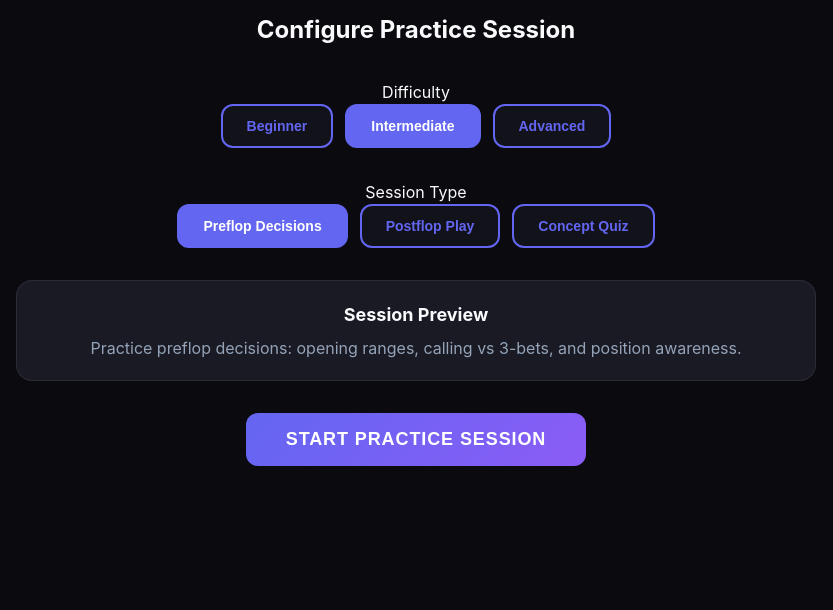
Scenario: PracticeSession › Active Session — Preflop Scenario › should enable submit after action selection
Click the button "Start Practice Session".
click(416, 440)  # box [246,413,586,466]
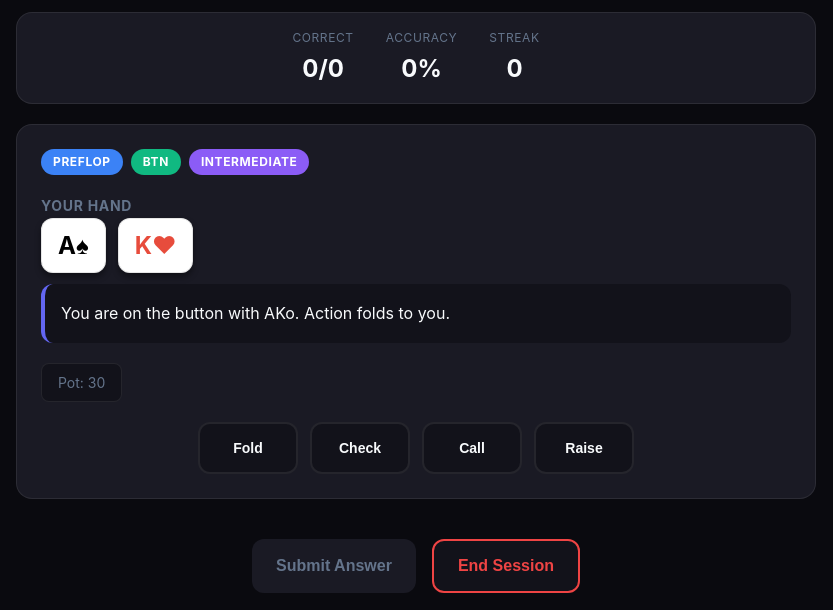
Click the button "Fold".
click(248, 448)  # box [198,422,298,474]
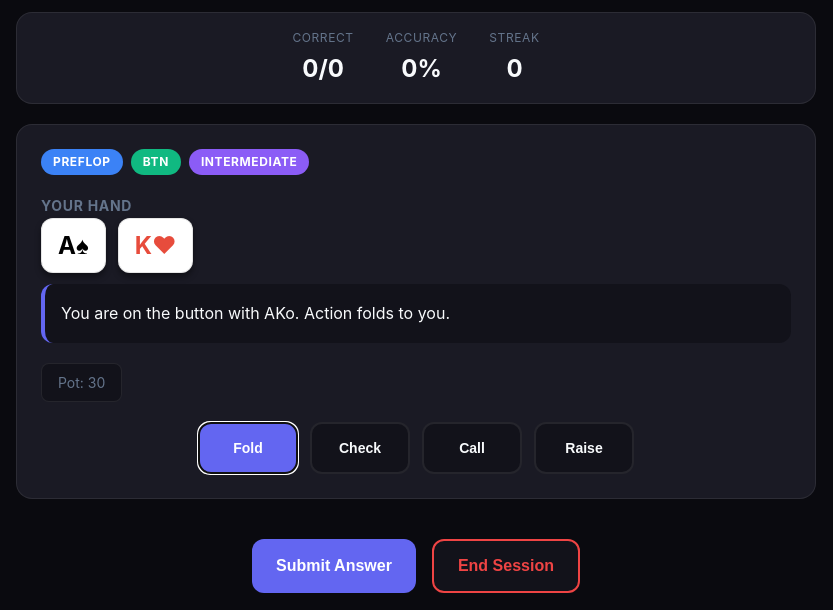
Expected: the button "Submit Answer" is enabled, [252,539,416,593]
